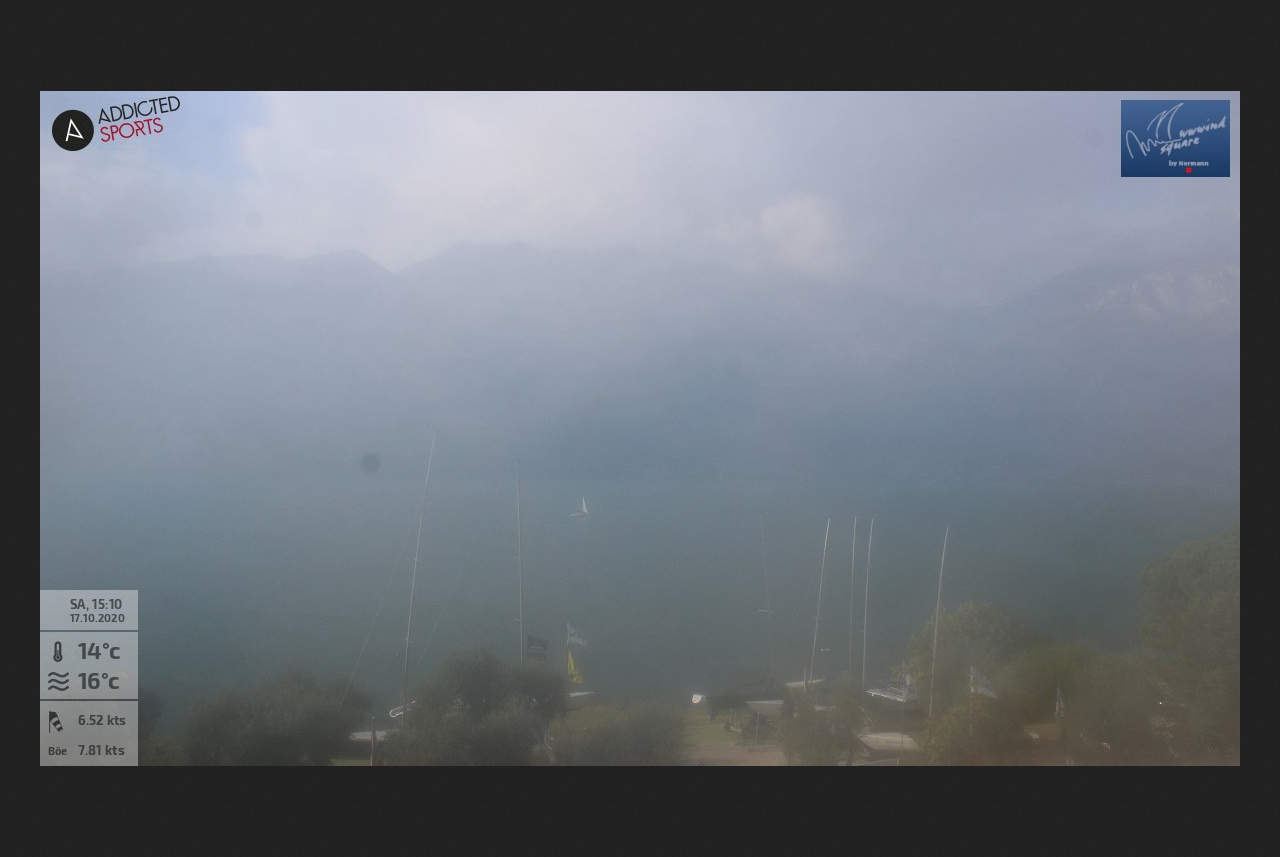maybe: (968, 664, 1000, 705), (565, 620, 590, 649)
no: (1053, 687, 1069, 722)
